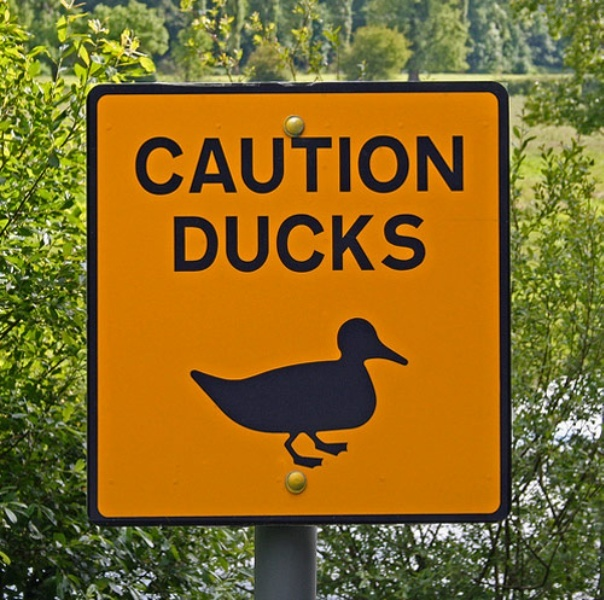text: (145, 135, 160, 198), (161, 135, 176, 198), (177, 135, 192, 198), (193, 135, 208, 198), (209, 135, 224, 198), (225, 135, 240, 198), (241, 135, 256, 198), (257, 135, 272, 198), (273, 135, 288, 198), (289, 135, 304, 198), (305, 135, 320, 198), (321, 135, 336, 198), (337, 135, 352, 198), (353, 135, 368, 198), (369, 135, 384, 198), (385, 135, 400, 198), (401, 135, 416, 198), (417, 135, 432, 198), (433, 135, 448, 198), (449, 135, 464, 198), (177, 211, 192, 272), (193, 211, 208, 272), (209, 211, 224, 272), (225, 211, 240, 272), (241, 211, 256, 272), (257, 211, 272, 272), (273, 211, 288, 272), (289, 211, 304, 272), (305, 211, 320, 272), (321, 211, 336, 272), (337, 211, 352, 272), (353, 211, 368, 272), (369, 211, 384, 272), (385, 211, 400, 272), (401, 211, 416, 272), (417, 211, 428, 272), (135, 135, 144, 198), (172, 211, 176, 272), (465, 135, 466, 198)
